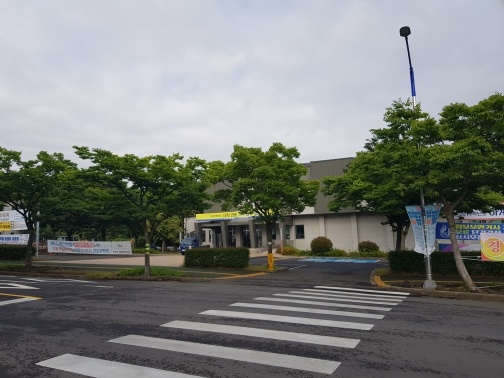Gym: (170, 155, 412, 252)
